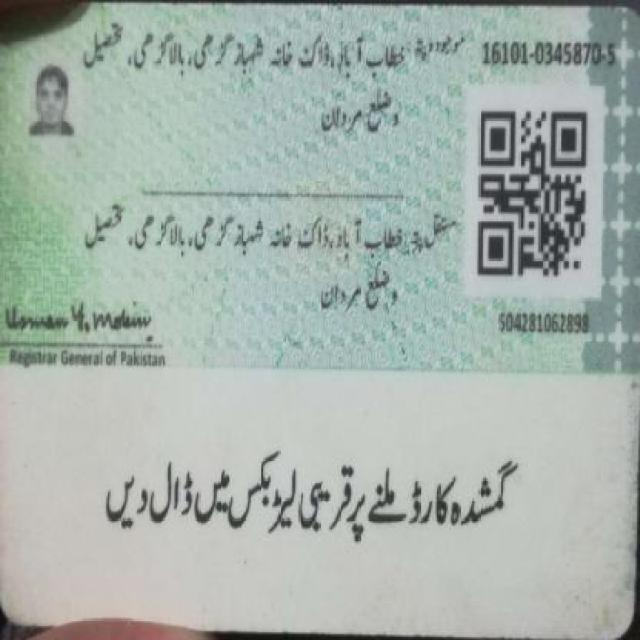Back: (6, 10, 629, 608)
